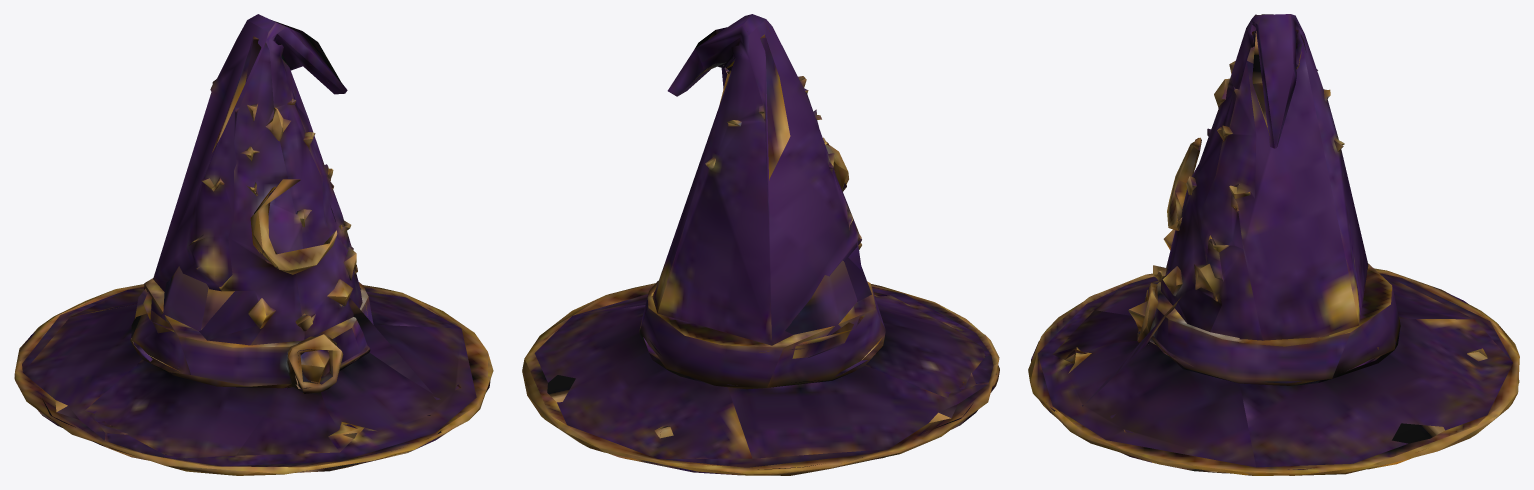
File: witchhat.glb
The picture shows the model from 3 angles, left to right: view 1: azimuth 30°, elevation 25°; view 2: azimuth 150°, elevation 25°; view 3: azimuth 270°, elevation 25°; orthographic projection. The views are drawn at different scales.
Visible parts, largest first — view 1: YVO3D.obj; view 2: YVO3D.obj; view 3: YVO3D.obj.
Part boxes in pixels (box(x1,y1,x2,y2)): YVO3D.obj: box(14, 14, 493, 475); YVO3D.obj: box(522, 14, 999, 475); YVO3D.obj: box(1028, 14, 1519, 475).
Size of the model in its own units: 0.9975 by 0.8249 by 0.9977.
Materials: 1 (1 with a texture image).
